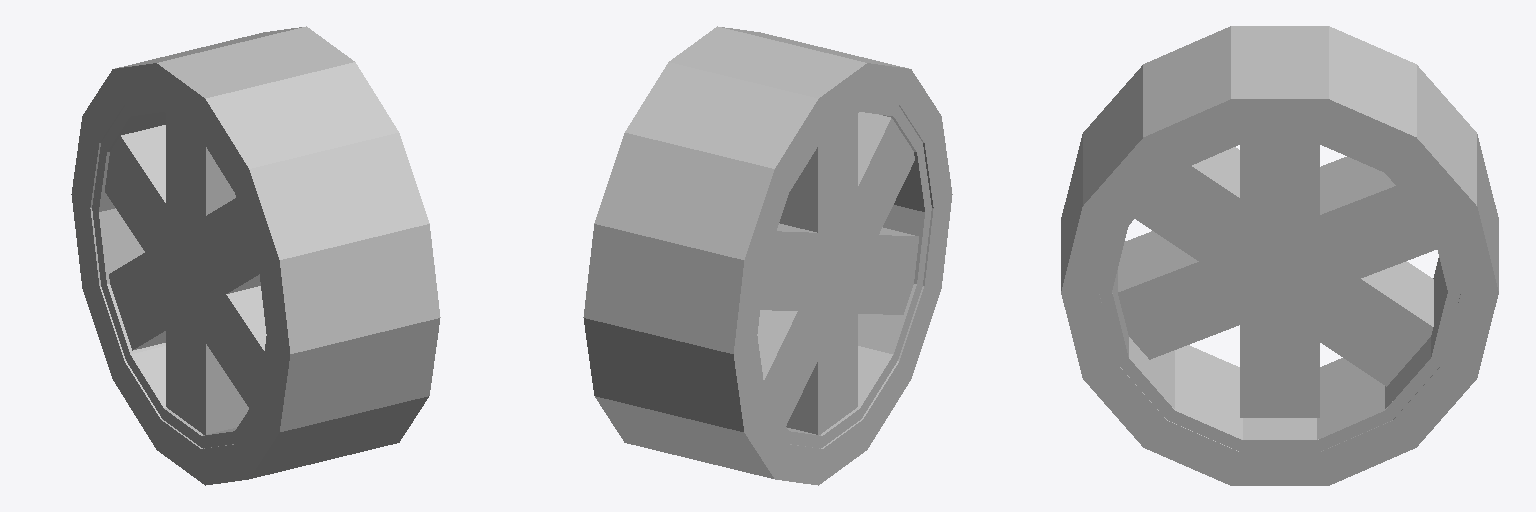
The model's file is pwtire.obj.
3 views of the same model, side by side, from view 1: azimuth 30°, elevation 25°; view 2: azimuth 150°, elevation 25°; view 3: azimuth 270°, elevation 25° (orthographic).
Parts seen in each view (by area): view 1: Cylinder.007; view 2: Cylinder.007; view 3: Cylinder.007.
Boxes of the visible parts, x1=… form: Cylinder.007: x1=71, y1=26, x2=440, y2=485; Cylinder.007: x1=583, y1=26, x2=952, y2=485; Cylinder.007: x1=1061, y1=26, x2=1498, y2=485.
Bounding box in the file's own units: 0.1811 × 0.4462 × 0.4577.